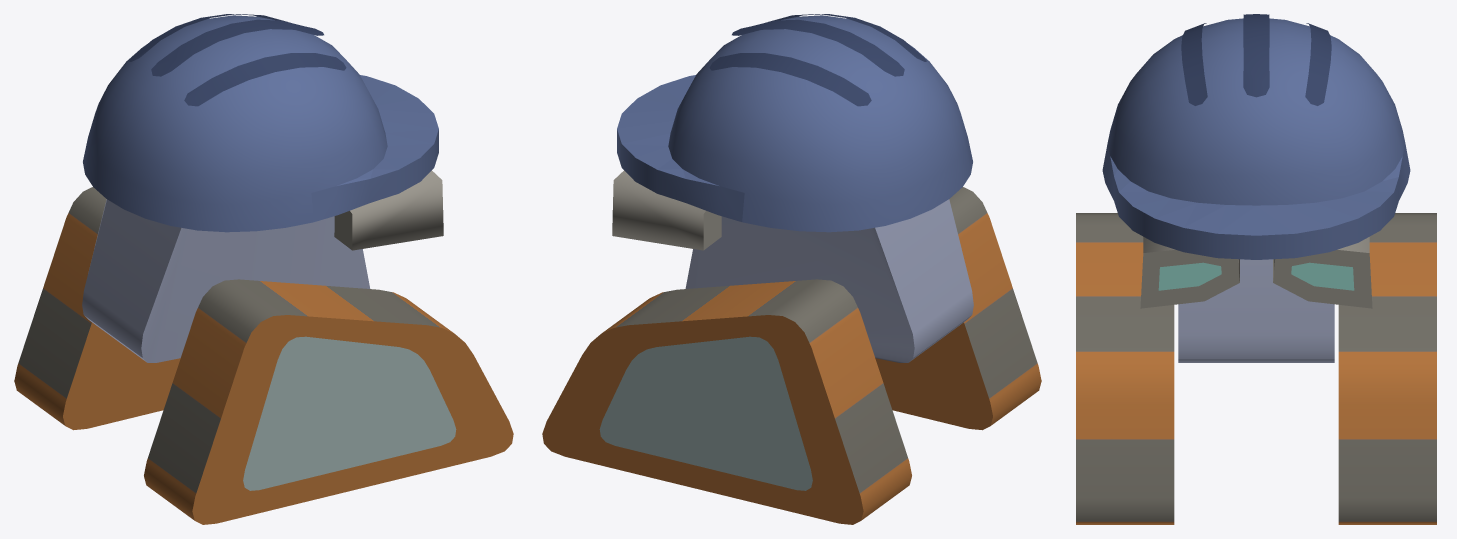
The model's file is Character.FBX.
3 renders of one model, left to right at view 1: azimuth 30°, elevation 25°; view 2: azimuth 150°, elevation 25°; view 3: azimuth 270°, elevation 25°, orthographic.
Visible parts, largest first — view 1: Object001, CharacterTracks; view 2: Object001, CharacterTracks; view 3: Object001, CharacterTracks.
Boxes of the visible parts, <box> form: Object001: <box>63,14,513,524</box>; CharacterTracks: <box>14,187,453,520</box>; Object001: <box>542,14,992,524</box>; CharacterTracks: <box>602,187,1041,520</box>; Object001: <box>1102,14,1410,362</box>; CharacterTracks: <box>1076,213,1436,524</box>.
Bounding box in the file's own units: 39.28 × 47.14 × 38.85.
